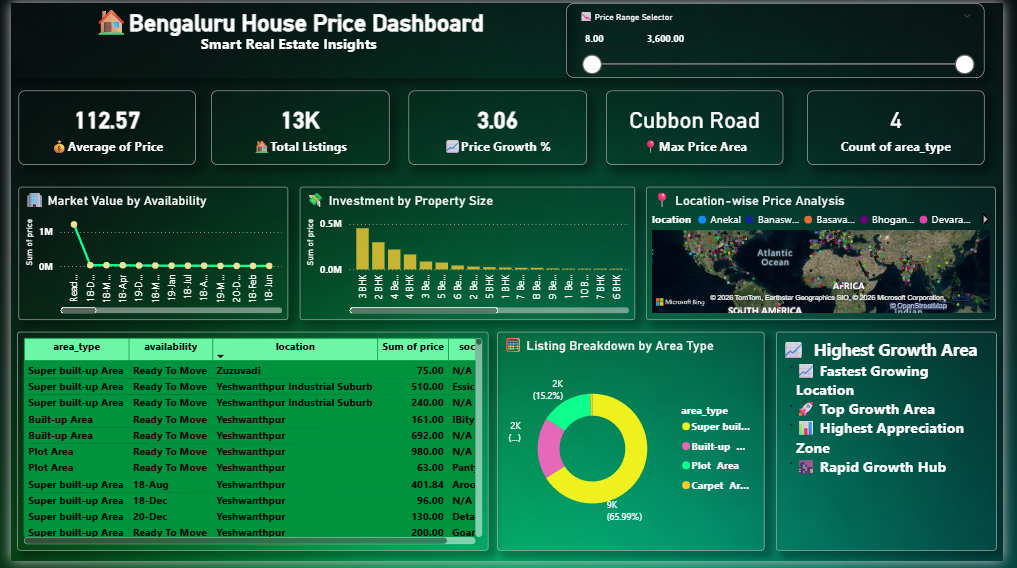

The dashboard page shown, as its layout file describes it:
{"tool":"powerbi","page":{"name":"Page 1","canvas":[1280,720],"ordinal":0},"visuals":[{"type":"textbox","title":"🏠Bengaluru House Price Dashboard","box":[0,0,716.6,96.9],"z":0},{"type":"card","fields":{"Values":["Avg(bengaluru_house_prices.price)"]},"box":[10,113.2,228.9,95.8],"z":1000},{"type":"card","fields":{"Values":["bengaluru_house_prices.Total Listings"]},"box":[257.5,113.2,230.1,95.8],"z":2000},{"type":"card","fields":{"Values":["bengaluru_house_prices.Price Growth %"]},"box":[512.5,113.2,230.1,95.8],"z":3000},{"type":"card","fields":{"Values":["bengaluru_house_prices.Max Price Area"]},"box":[767.5,113.2,228.9,95.8],"z":4000},{"type":"card","fields":{"Values":["Count(bengaluru_house_prices.area_type)"]},"box":[1027.5,113.2,228.9,95.8],"z":5000},{"type":"map","title":"📍 Location-wise Price Analysis","fields":{"Series":["bengaluru_house_prices.location"],"Category":["bengaluru_house_prices.society"]},"box":[819.8,236.4,451.6,171.7],"z":6000},{"type":"lineChart","title":"🏢 Market Value by Availability","fields":{"Category":["bengaluru_house_prices.availability"],"Y":["Sum(bengaluru_house_prices.price)"]},"box":[10,236.4,348.3,171.7],"z":7000},{"type":"slicer","fields":{"Values":["bengaluru_house_prices.price"]},"box":[716.5,0,539.9,97],"z":8000},{"type":"tableEx","fields":{"Values":["bengaluru_house_prices.area_type","bengaluru_house_prices.availability","bengaluru_house_prices.location","Sum(bengaluru_house_prices.price)","bengaluru_house_prices.society"]},"box":[8.7,424.2,608.3,282.4],"z":9000},{"type":"columnChart","title":"💸 Investment by Property Size","fields":{"Category":["bengaluru_house_prices.size"],"Y":["Sum(bengaluru_house_prices.price)"]},"box":[373.2,236.4,432.9,171.7],"z":10000},{"type":"donutChart","title":"🧮 Listing Breakdown by Area Type","fields":{"Category":["bengaluru_house_prices.area_type"],"Y":["bengaluru_house_prices.Total Listings"]},"box":[628.2,424.2,344.6,282.4],"z":11000},{"type":"textbox","box":[986.5,424.2,284.9,282.4],"z":12000}]}

Visuals, with their boxes in screenshot pixels (x1, y1, x2, y2), scaled from the page's 1280x720 canvas onto the 1017x568 screenshot:
"🏠Bengaluru House Price Dashboard" textbox: x1=0, y1=0, x2=569, y2=76
card - Avg(bengaluru_house_prices.price): x1=8, y1=89, x2=190, y2=165
card - bengaluru_house_prices.Total Listings: x1=205, y1=89, x2=387, y2=165
card - bengaluru_house_prices.Price Growth %: x1=407, y1=89, x2=590, y2=165
card - bengaluru_house_prices.Max Price Area: x1=610, y1=89, x2=792, y2=165
card - Count(bengaluru_house_prices.area_type): x1=816, y1=89, x2=998, y2=165
"📍 Location-wise Price Analysis" map: x1=651, y1=186, x2=1010, y2=322
"🏢 Market Value by Availability" lineChart: x1=8, y1=186, x2=285, y2=322
slicer - bengaluru_house_prices.price: x1=569, y1=0, x2=998, y2=77
tableEx - bengaluru_house_prices.area_type x bengaluru_house_prices.availability: x1=7, y1=335, x2=490, y2=557
"💸 Investment by Property Size" columnChart: x1=297, y1=186, x2=640, y2=322
"🧮 Listing Breakdown by Area Type" donutChart: x1=499, y1=335, x2=773, y2=557
textbox: x1=784, y1=335, x2=1010, y2=557
